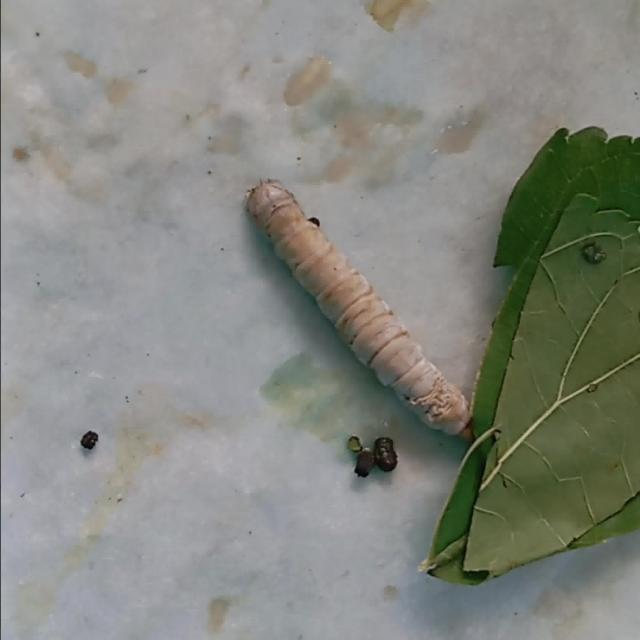Grasserie: (208, 146, 506, 472)
